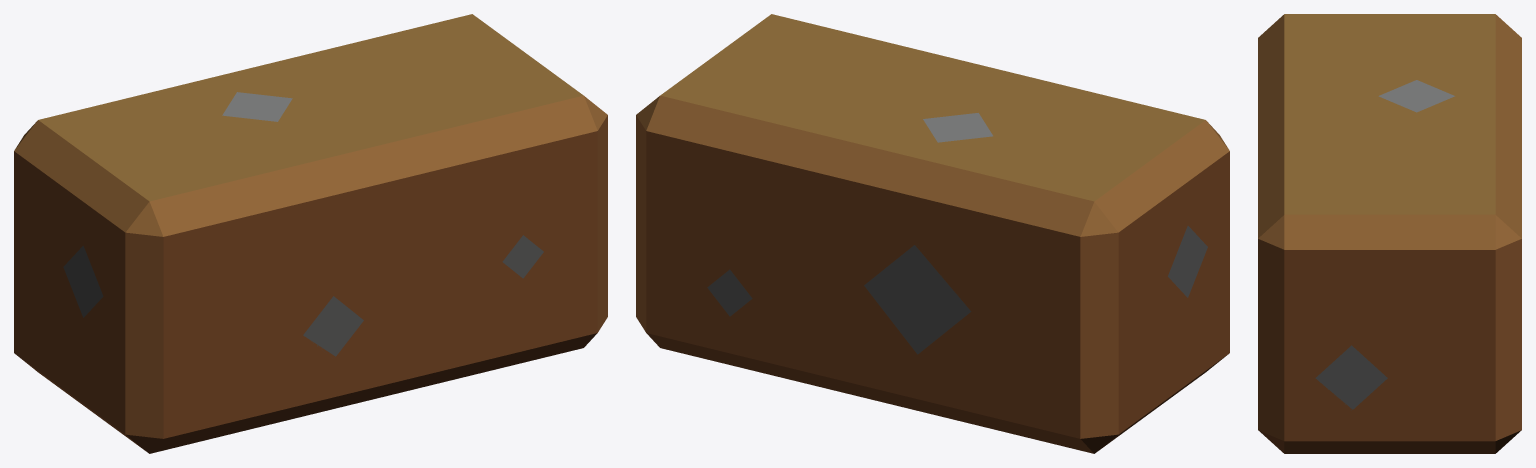
File: m_kub_dirt_brick.FBX
3 renders of one model, left to right at view 1: azimuth 30°, elevation 25°; view 2: azimuth 150°, elevation 25°; view 3: azimuth 270°, elevation 25°, orthographic. The views are drawn at different scales.
Visible parts, largest first — view 1: m_kub_dirt_brick; view 2: m_kub_dirt_brick; view 3: m_kub_dirt_brick.
Boxes of the visible parts, x1=… form: m_kub_dirt_brick: x1=14, y1=14, x2=607, y2=453; m_kub_dirt_brick: x1=636, y1=14, x2=1229, y2=453; m_kub_dirt_brick: x1=1258, y1=14, x2=1521, y2=453.
Size of the model in its own units: 2 by 1 by 1.
